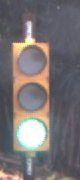Green: (11, 30, 54, 168)
